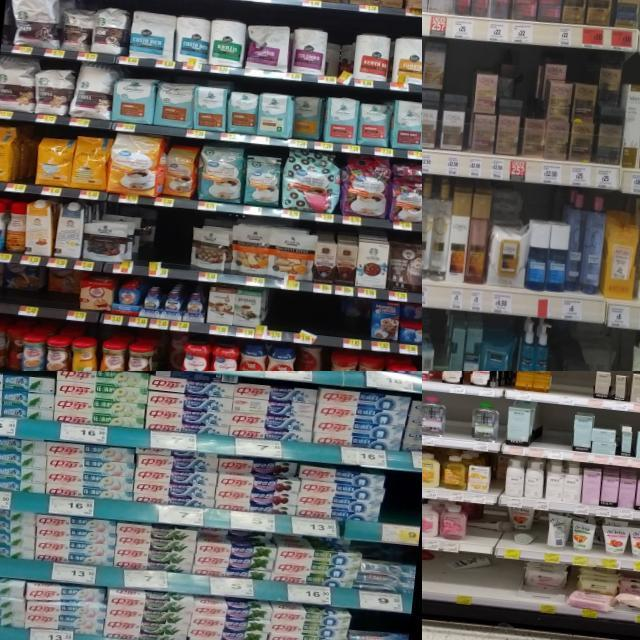Imprecise: (193, 525, 284, 581), (488, 184, 530, 288), (0, 263, 81, 308), (489, 56, 524, 150), (594, 67, 628, 157), (162, 145, 195, 203), (519, 568, 567, 603), (292, 90, 326, 139), (511, 505, 546, 548), (324, 36, 354, 80), (448, 548, 495, 574), (468, 514, 511, 536)
